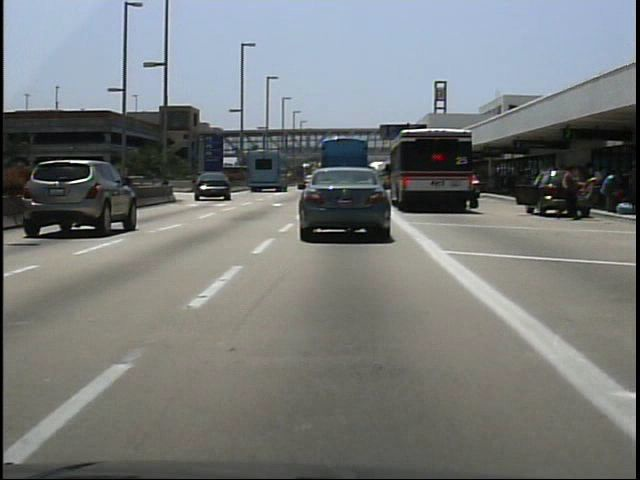person: (554, 162, 583, 223)
